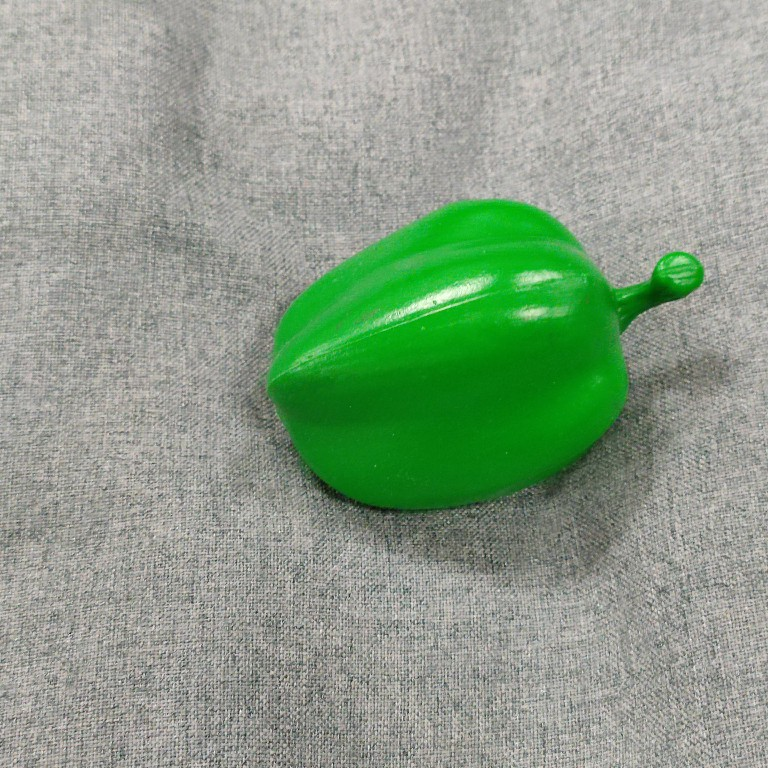fruit_pepper: (259, 193, 707, 518)
